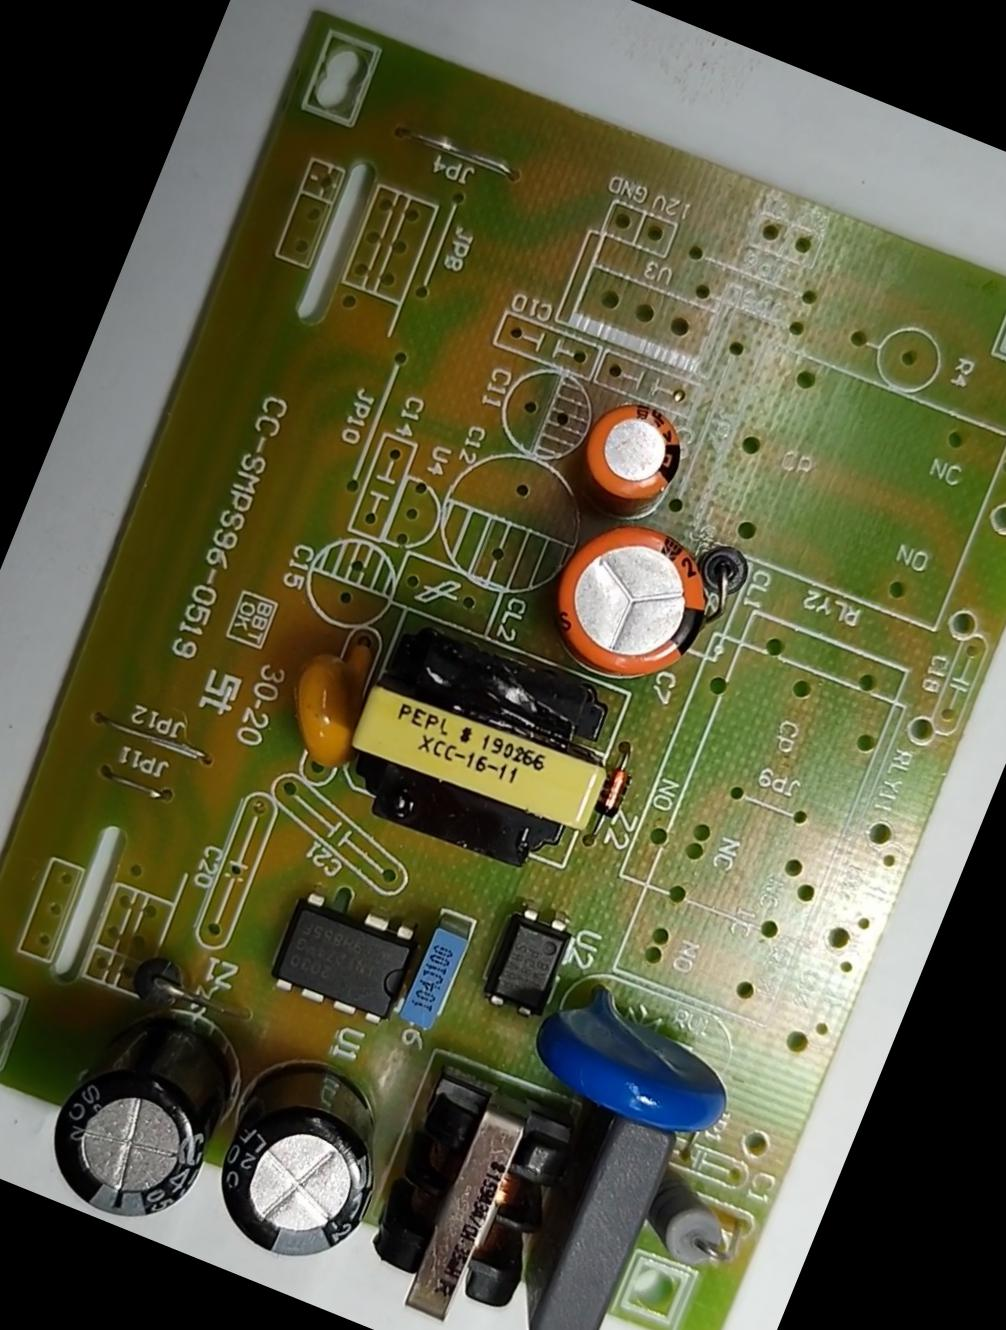Cap1: (538, 504, 728, 698)
Cap2: (569, 388, 696, 517)
Cap3: (192, 1044, 410, 1285)
Cap4: (27, 977, 260, 1242)
MOSFET: (266, 886, 423, 1032)
Mov: (520, 960, 760, 1153)
Resistor: (636, 1167, 748, 1280)
Transformer: (319, 604, 631, 889), (348, 1056, 597, 1329)
